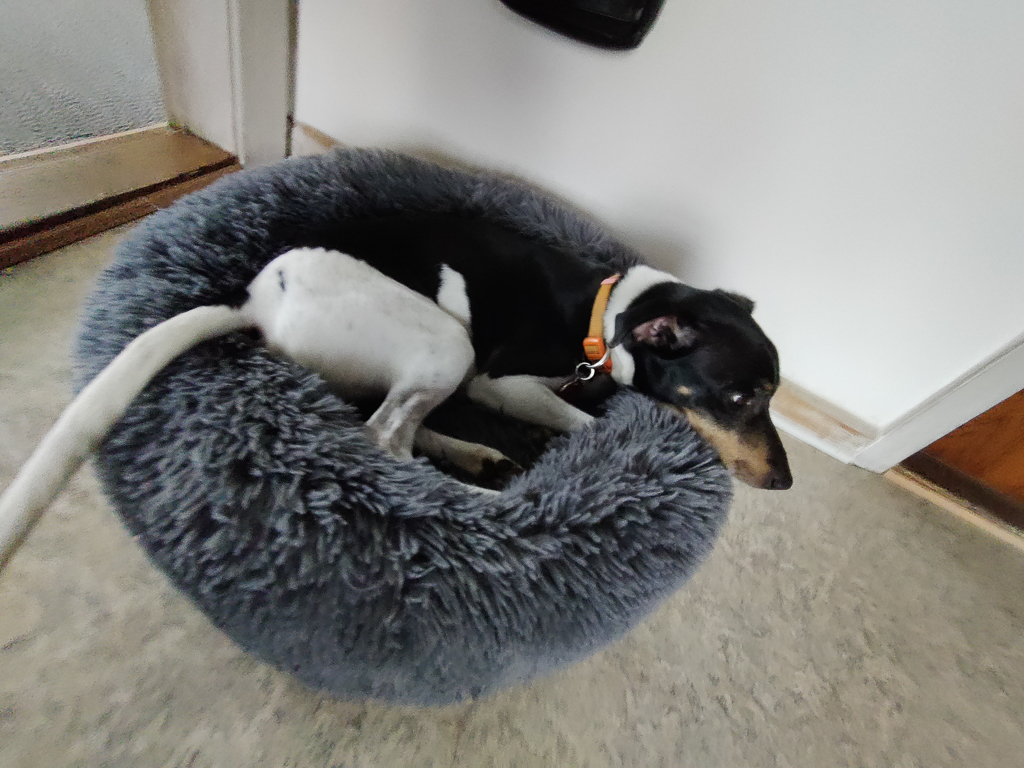Dog: (0, 180, 813, 598)
